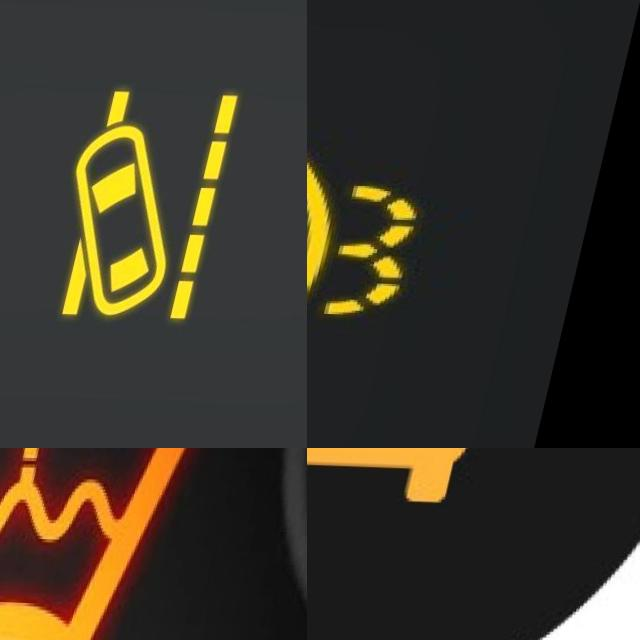Washer Fluid: (0, 448, 248, 640), (307, 142, 443, 349)
